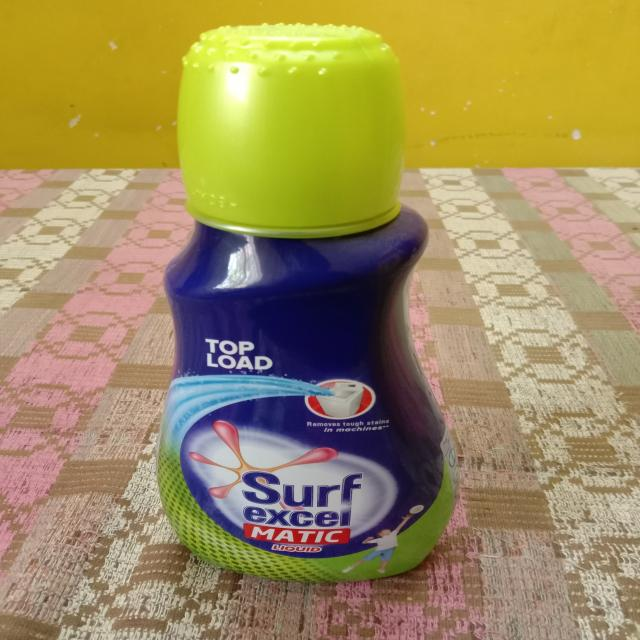detergent: (142, 22, 454, 595)
